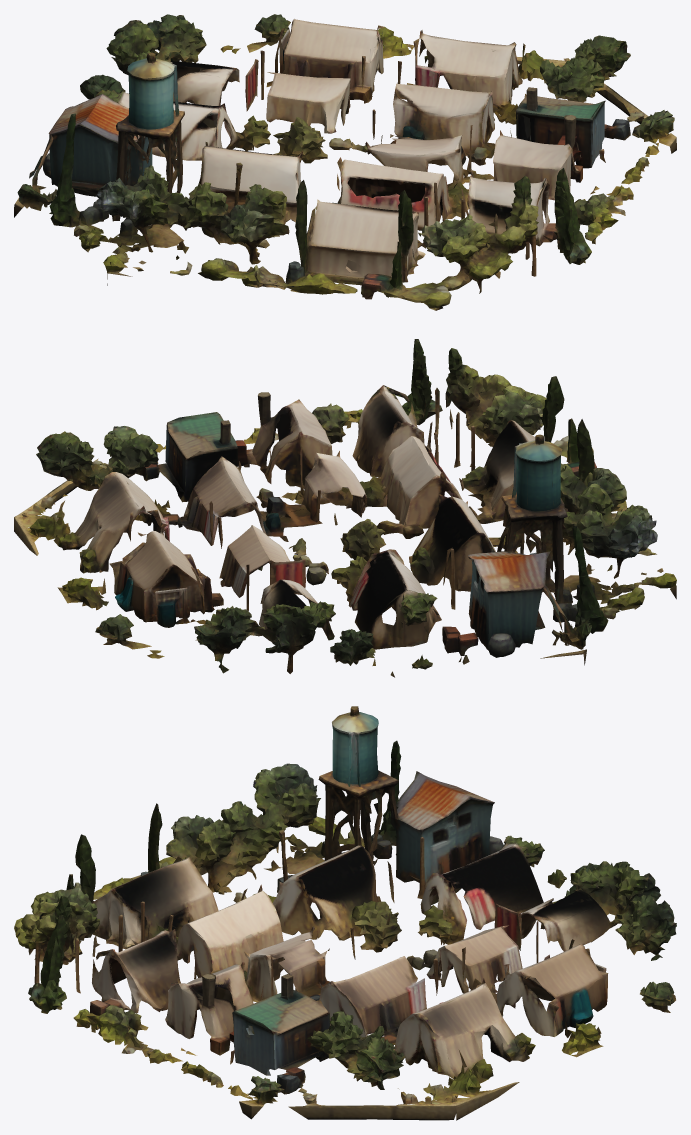
Rendered from city_1948_maabara_noplinth.glb.
3 renders of one model, top to bottom at view 1: azimuth 30°, elevation 25°; view 2: azimuth 150°, elevation 25°; view 3: azimuth 270°, elevation 25°, orthographic.
Visible parts, largest first — view 1: geometry_0; view 2: geometry_0; view 3: geometry_0.
Part boxes in pixels (x1,y1,x2,y2): geometry_0: (14,14,676,310); geometry_0: (14,339,676,677); geometry_0: (14,706,676,1120).
Size of the model in its own units: 1.01 by 0.2941 by 0.9839.
Materials: 1 (1 with a texture image).
